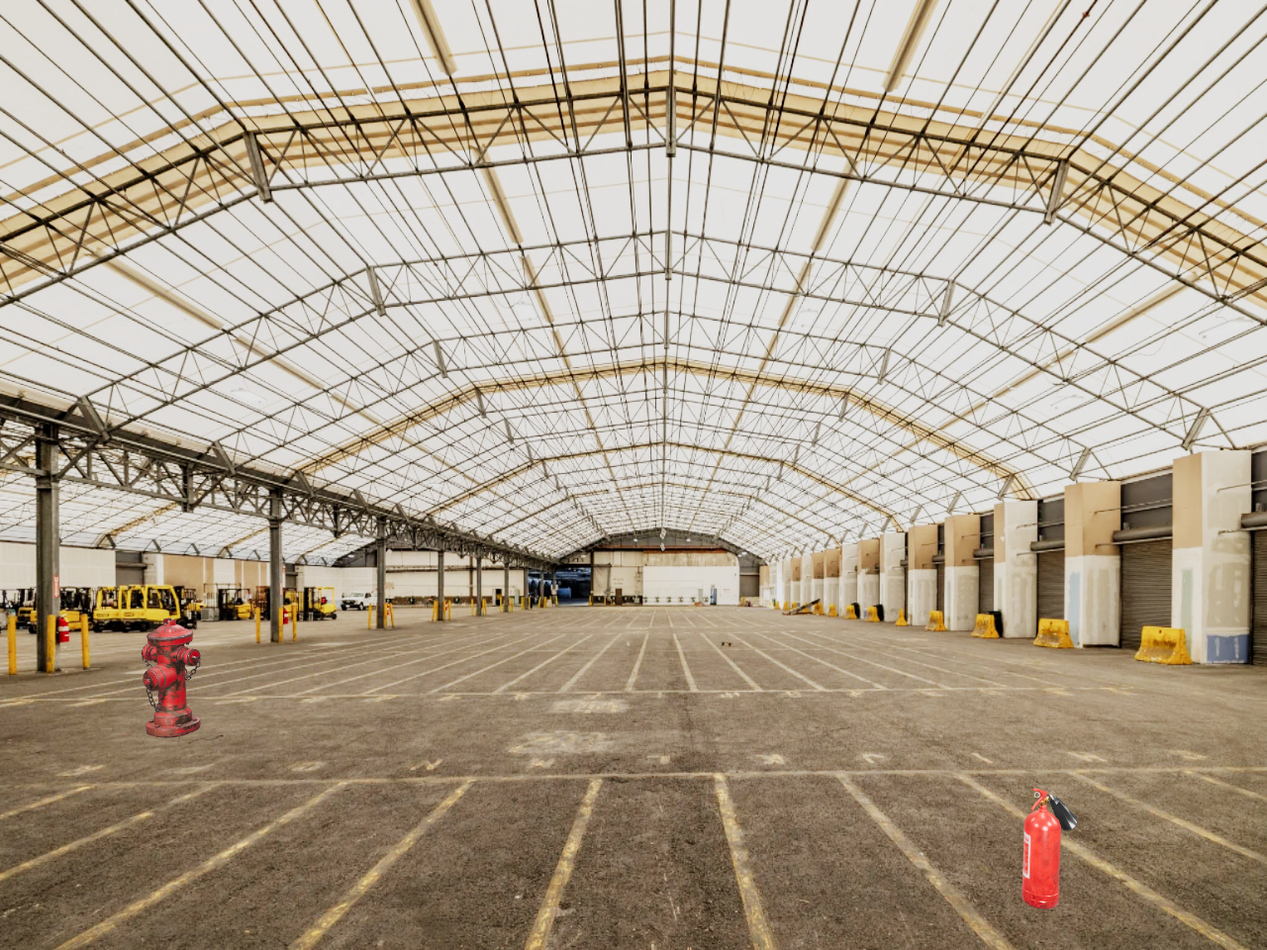KapsoleAtashNeshani: (1022, 788, 1078, 909)
ShirAtashNeshani: (142, 618, 200, 738)
